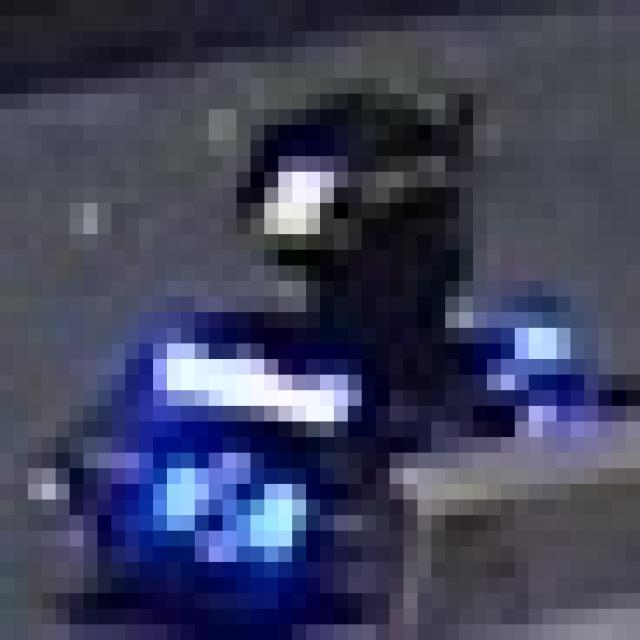B5: (153, 437, 306, 562)
